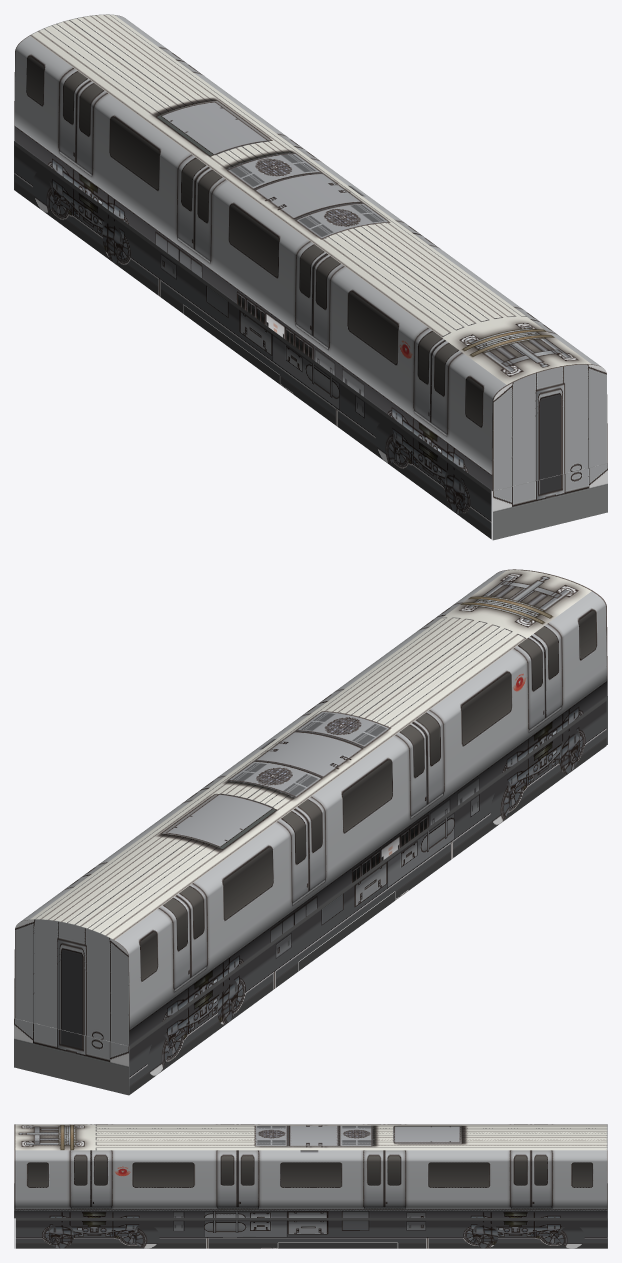
File: car3.glb
3 renders of one model, top to bottom at view 1: azimuth 30°, elevation 25°; view 2: azimuth 150°, elevation 25°; view 3: azimuth 270°, elevation 25°, orthographic. The views are drawn at different scales.
Parts seen in each view (by area): view 1: tokyu-6020-car3; view 2: tokyu-6020-car3; view 3: tokyu-6020-car3.
Boxes of the visible parts, <box> form: tokyu-6020-car3: <box>14,14,607,540</box>; tokyu-6020-car3: <box>14,569,607,1095</box>; tokyu-6020-car3: <box>14,1124,607,1248</box>.
Bounding box in the file's own units: 2.78 × 3.62 × 20.03.
9 materials, 8 textured.
